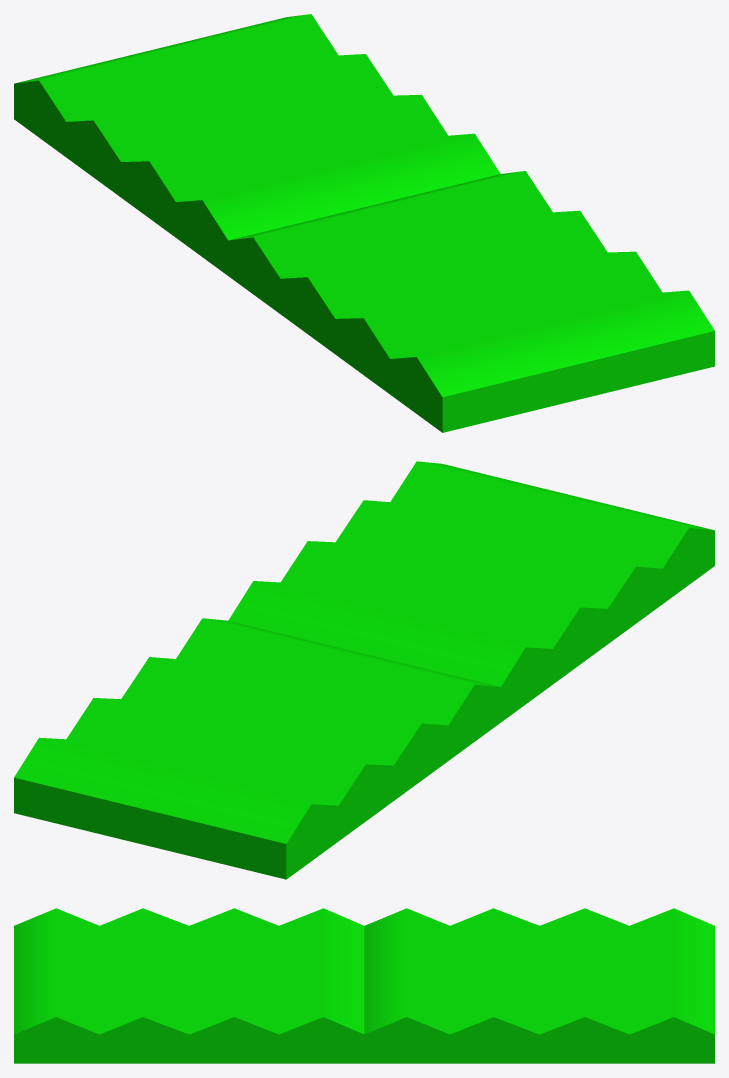
Rendered from curly_floor.fbx.
The picture shows the model from 3 angles, top to bottom: view 1: azimuth 30°, elevation 25°; view 2: azimuth 150°, elevation 25°; view 3: azimuth 270°, elevation 25°; orthographic projection. The views are drawn at different scales.
Visible parts, largest first — view 1: pCube27; view 2: pCube27; view 3: pCube27.
Part boxes in pixels (x1,y1,x2,y2): pCube27: (14,14,714,432); pCube27: (14,461,714,879); pCube27: (14,908,714,1063).
Size of the model in its own units: 5.23 by 1.05 by 14.26.
